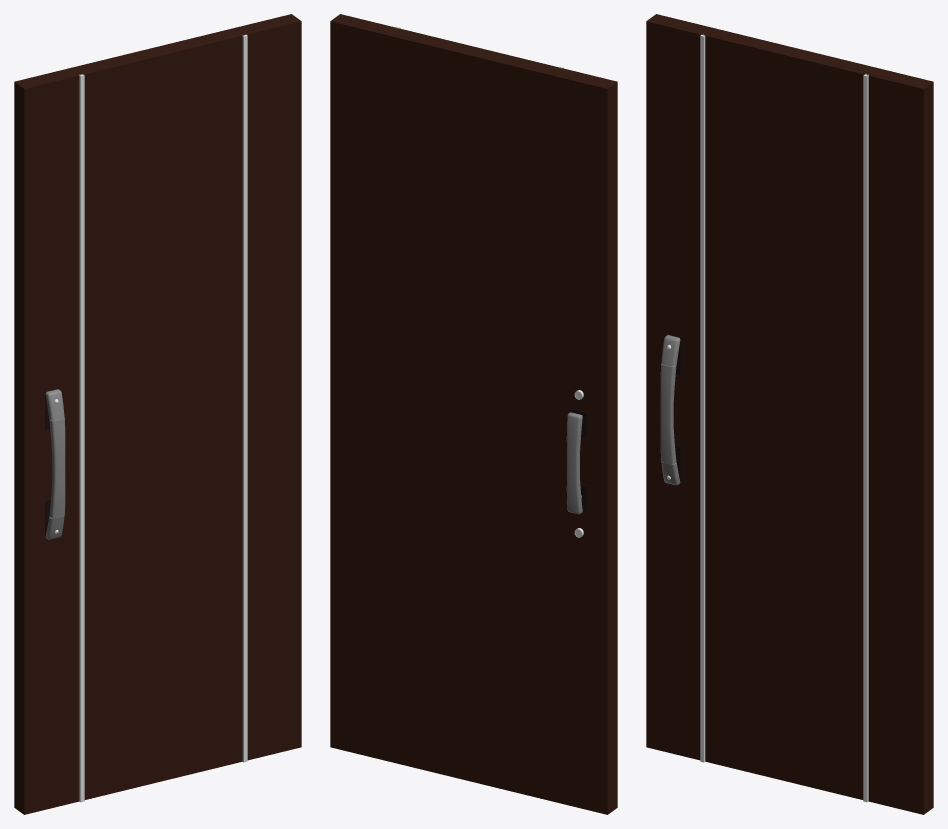
File: Door-1.fbx
3 renders of one model, left to right at view 1: azimuth 30°, elevation 25°; view 2: azimuth 150°, elevation 25°; view 3: azimuth 330°, elevation 25°, orthographic.
Parts seen in each view (by area): view 1: Door-1; view 2: Door-1; view 3: Door-1.
Boxes of the visible parts, bbox=[...] form: Door-1: bbox=[14, 14, 301, 814]; Door-1: bbox=[330, 14, 617, 814]; Door-1: bbox=[646, 14, 933, 814].
Bounding box in the file's own units: 0.96 × 2.4 × 0.1598.
